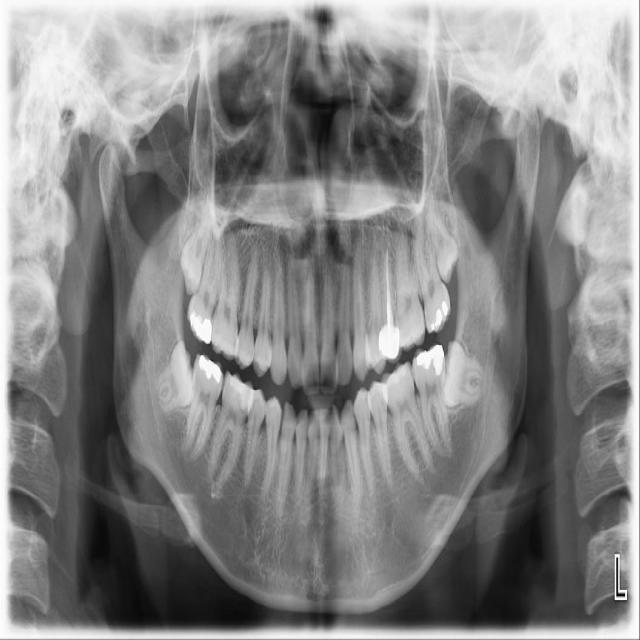Crown: (378, 324, 402, 363)
Filling: (414, 341, 445, 378), (227, 374, 254, 413), (186, 311, 213, 346), (427, 300, 452, 335), (199, 354, 224, 382)
Periapical lesion: (203, 479, 224, 503)
Root Canal Treatment: (386, 245, 393, 327)
impacted tooth: (180, 199, 212, 296), (441, 340, 485, 408), (158, 341, 198, 414), (424, 205, 459, 281)
